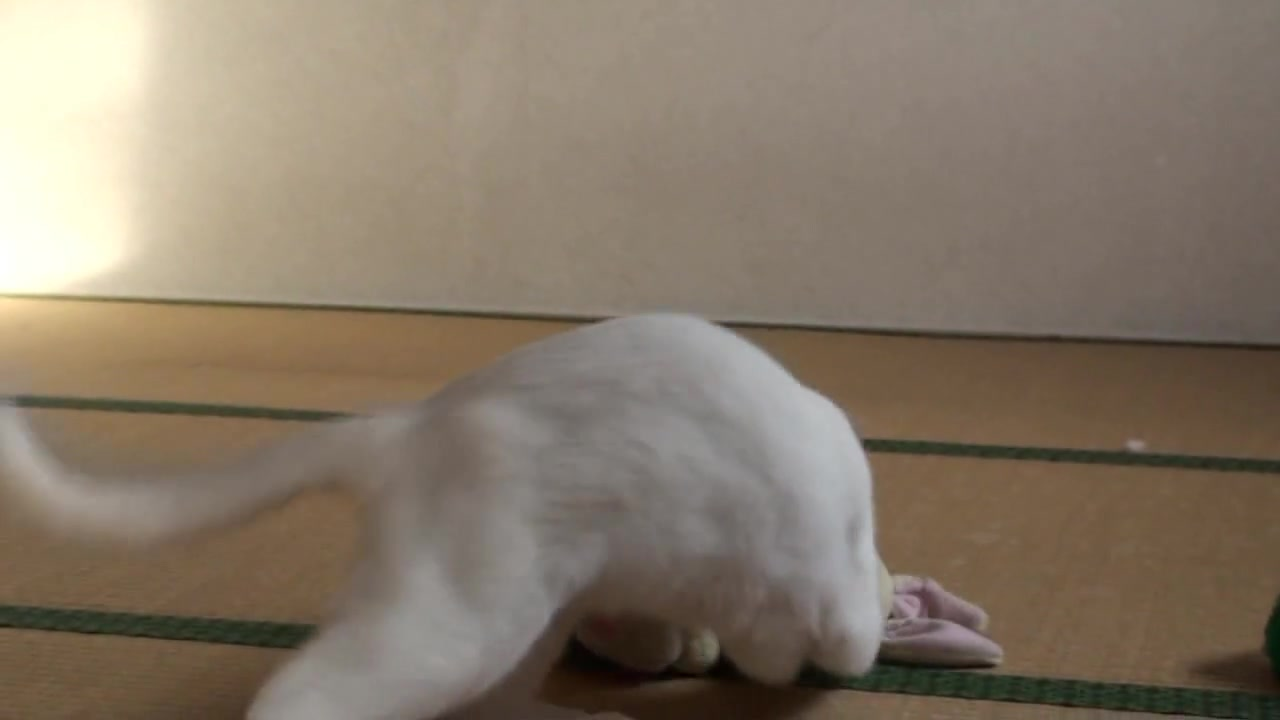cat: (4, 314, 898, 720)
